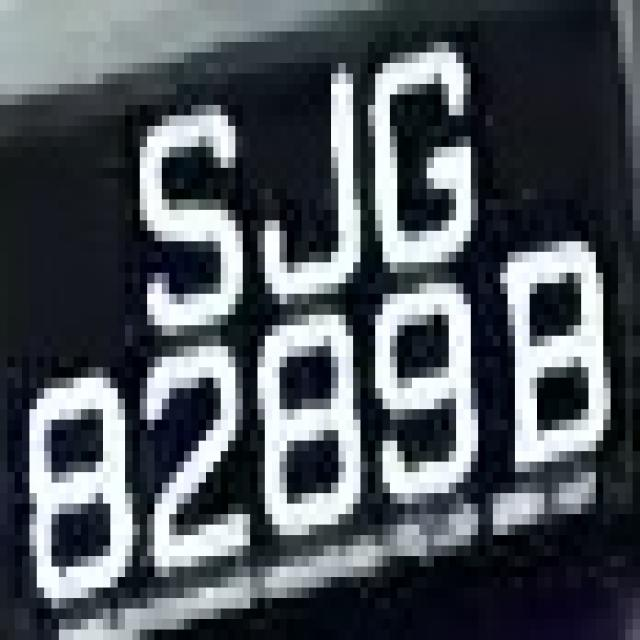2: (110, 357, 258, 577)
8: (0, 335, 154, 629), (243, 273, 375, 566)
9: (353, 262, 500, 514)
B: (500, 210, 611, 503)
G: (338, 32, 493, 284)
J: (243, 42, 368, 336)
S: (103, 73, 243, 378)
